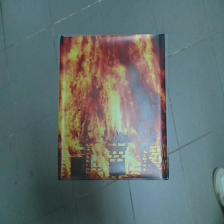fire-poster: (58, 35, 168, 179)
